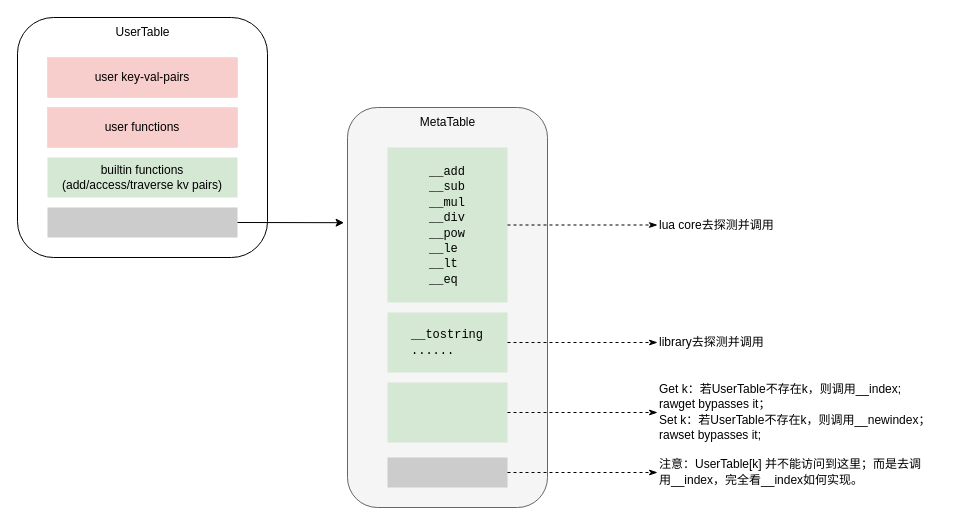
The diagram is 955 pixels wide and 525 high, and some of its shapes have lost their labels. The shapes that lost their labels are listed below. From the top down, each one's centre as x and y in pixels, then its label:
At point (142, 222): "ref to metatable".
At point (447, 412): "__index __newindex".
At point (447, 472): "k = val".
